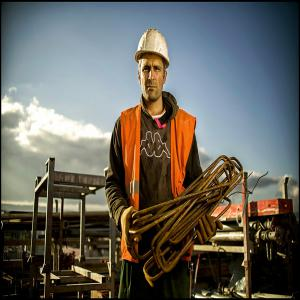white: (137, 27, 171, 102)
